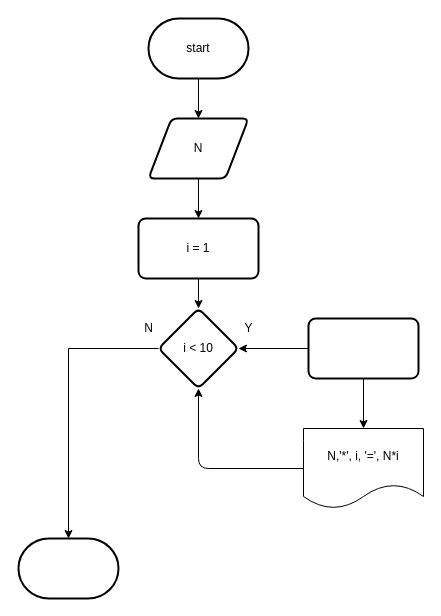
Image size: 441x616. Some labels were removed from this diagram. Each missing label, with the centre of its shape:
finish: [68,568]
i += 1: [363,348]
